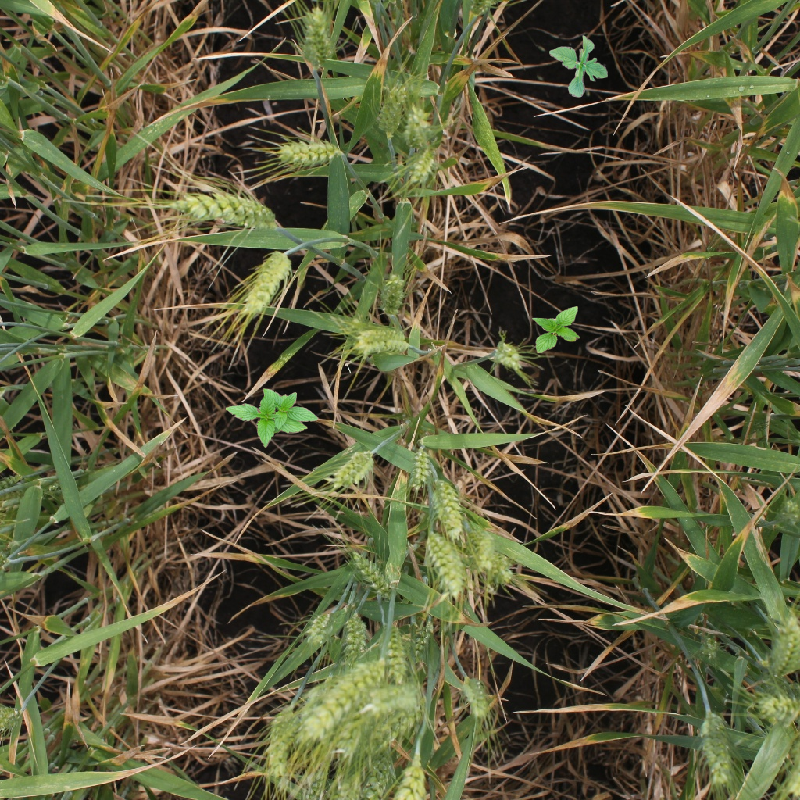spikelet: (295, 653, 392, 742), (169, 186, 281, 232), (238, 246, 294, 317), (693, 708, 739, 791), (420, 527, 471, 599), (259, 700, 302, 779), (339, 541, 399, 597), (466, 521, 517, 586), (360, 678, 427, 725), (427, 472, 469, 539), (353, 739, 398, 799), (382, 621, 423, 685), (298, 5, 339, 66), (387, 749, 436, 800), (301, 597, 351, 644), (327, 444, 378, 490), (764, 610, 800, 675), (350, 322, 410, 357), (751, 685, 800, 727), (337, 607, 371, 666), (375, 80, 409, 138), (455, 671, 495, 720), (276, 138, 343, 167), (405, 441, 436, 491), (779, 727, 800, 800), (401, 103, 435, 148), (376, 270, 408, 316), (402, 145, 439, 184), (769, 491, 799, 532), (490, 339, 525, 373), (1, 698, 30, 736), (469, 1, 504, 17)
weed: (226, 388, 319, 448), (549, 35, 608, 98), (532, 306, 580, 353)
